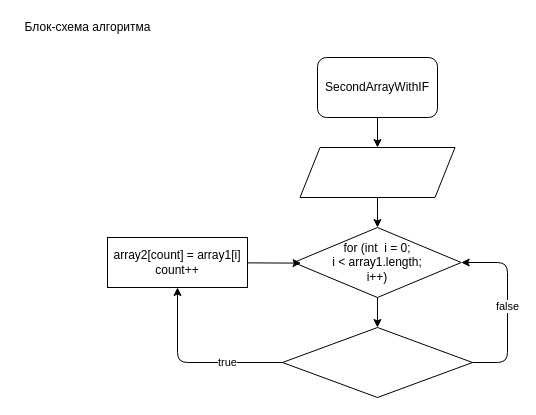
Image size: 536x415. Some labels were removed from this diagram. Each missing label, with the centre of its shape:
if (array1[i].length <= 3): point 377,362
string[] array1 string[] array2 int count = 0: point 377,172
